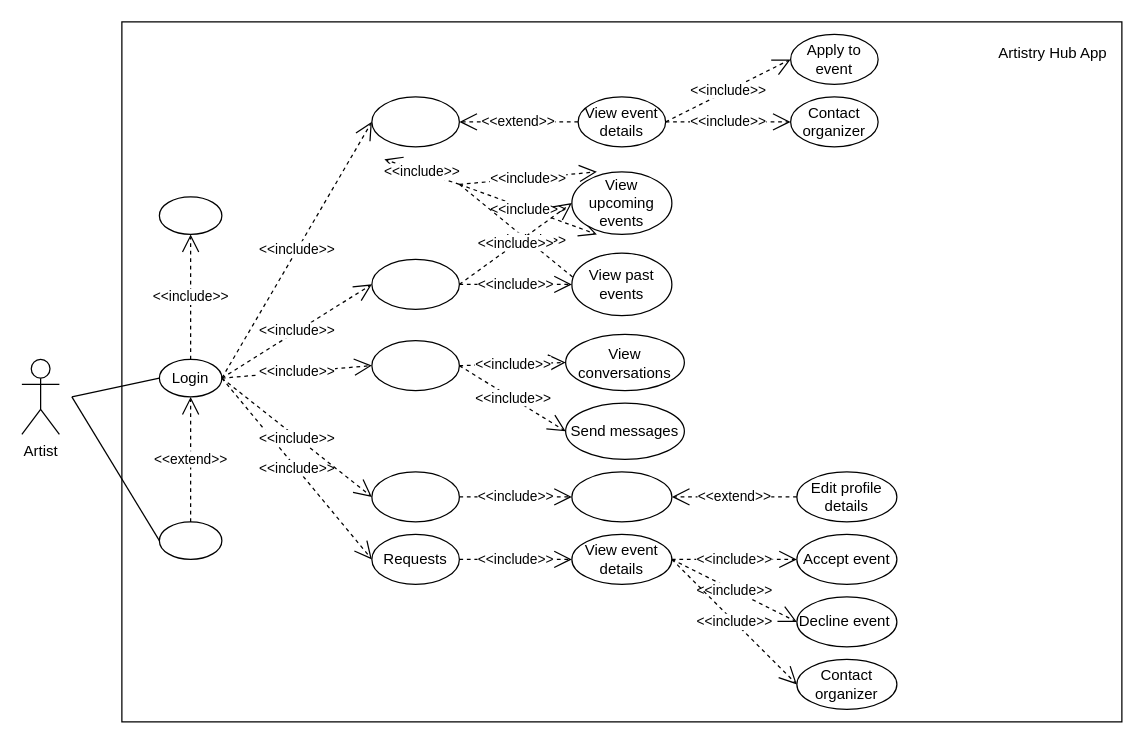
The diagram is 1144 pixels wide and 744 high, and some of its shapes have lost their labels. Each missing label, with the centre of its shape:
"Logout" belongs at [190,215].
"Messages" belongs at [415,365].
"Newsfeed" belongs at [415,121].
"Profile" belongs at [415,496].
"Register" belongs at [190,540].
"View artist events" belongs at [415,283].
"View profile details" belongs at [621,496].
